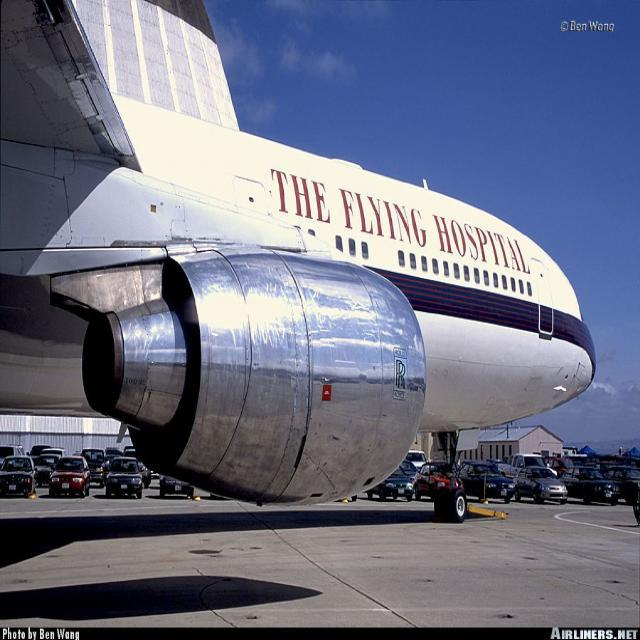crack: (554, 366, 566, 379)
